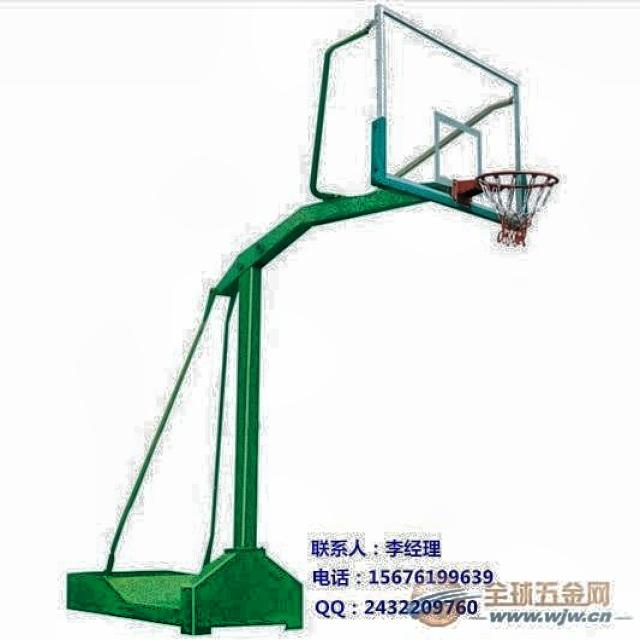rim: (475, 170, 561, 250)
